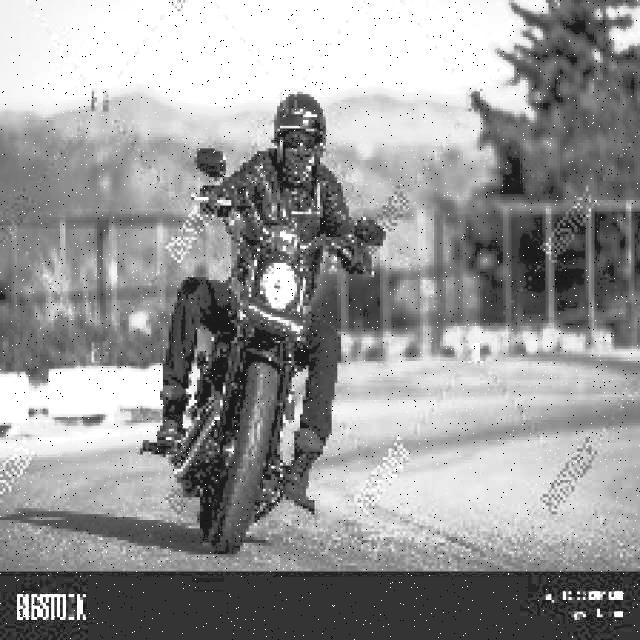Bike: (183, 161, 333, 555)
